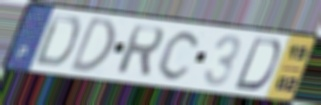3: (203, 34, 241, 87)
C: (155, 29, 203, 83)
D: (231, 35, 283, 93), (66, 14, 117, 73), (32, 12, 83, 70)
R: (114, 23, 166, 79)
